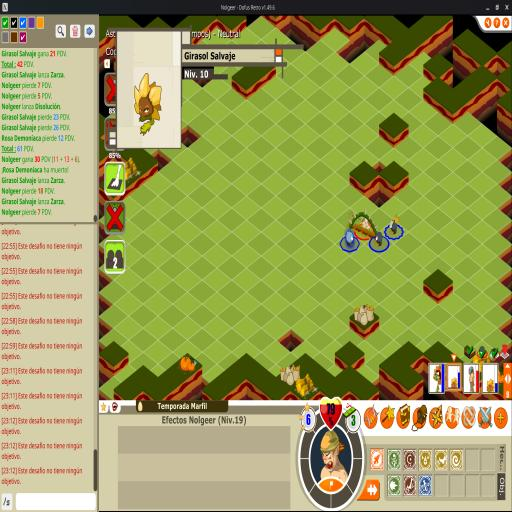Enemigos: (344, 227, 356, 248), (389, 215, 400, 235), (374, 230, 384, 246)
Personaje: (346, 206, 378, 243)
